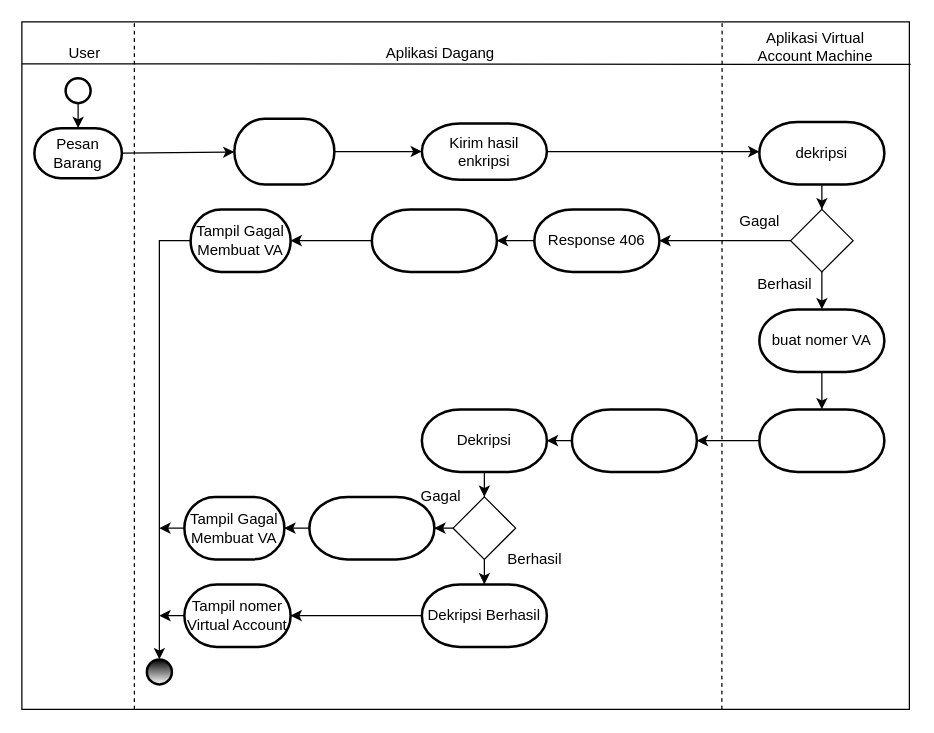
Image size: 934x733. Some labels were removed from this diagram. Each missing label, with the centre of its shape:
"EnkripsI Detail Pesanan" goes at (283,151).
"Enkripsi VA" goes at (821,440).
"Gagal Dekripsi" goes at (371,527).
"Gagal request Virtual Account" goes at (434,240).
"Response 200" goes at (634,440).
